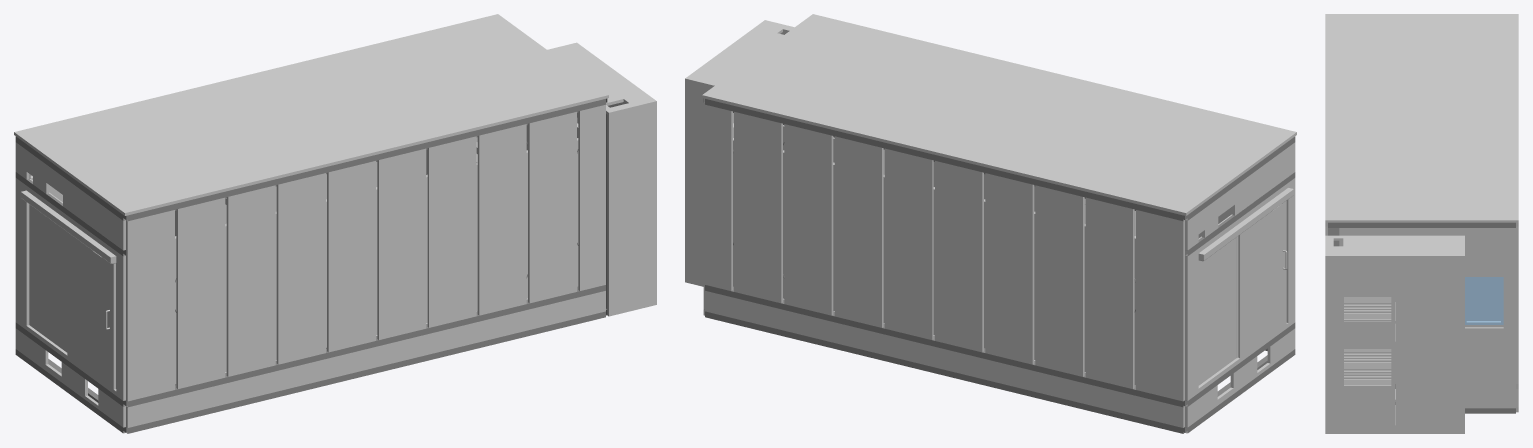
The model's file is 모듈러 병실.glb.
The picture shows the model from 3 angles, left to right: view 1: azimuth 30°, elevation 25°; view 2: azimuth 150°, elevation 25°; view 3: azimuth 270°, elevation 25°; orthographic projection. The views are drawn at different scales.
Size of the model in its own units: 9.52 by 3.75 by 3.4.
